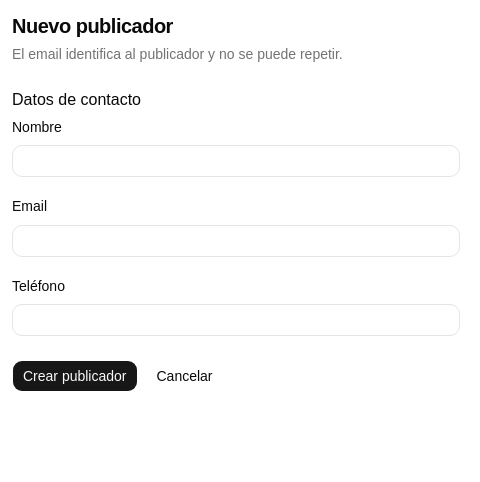
Test case: PublicadorNuevoPage › muestra el mensaje del backend cuando el email ya existe
The image size is (480, 482).
Type "Otro con el mismo mail" into the field labelled "Nombre" at x=236, y=161, box [12,145,460,177]
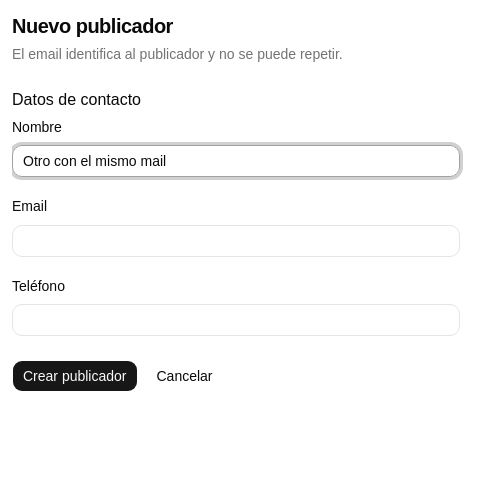
Type "cosquin@cordoba.gob.ar" into the field labelled "Email" at x=236, y=240, box [12,224,460,256]
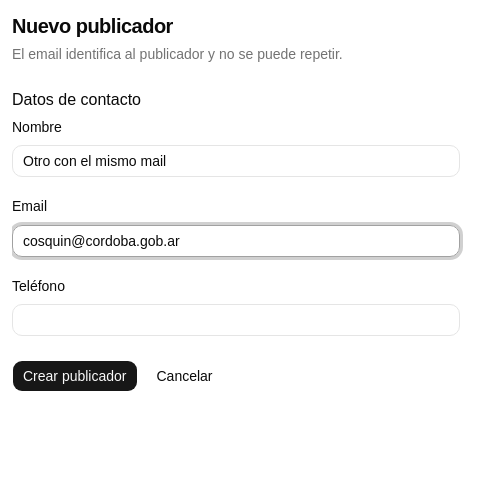
Click the button "Crear publicador" at x=75, y=376, box [12,360,138,392]
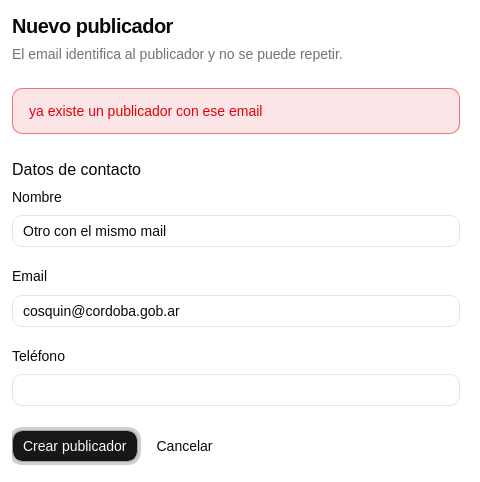
Now the text "ya existe un publicador con ese email" is shown, box [12,88,460,134]
